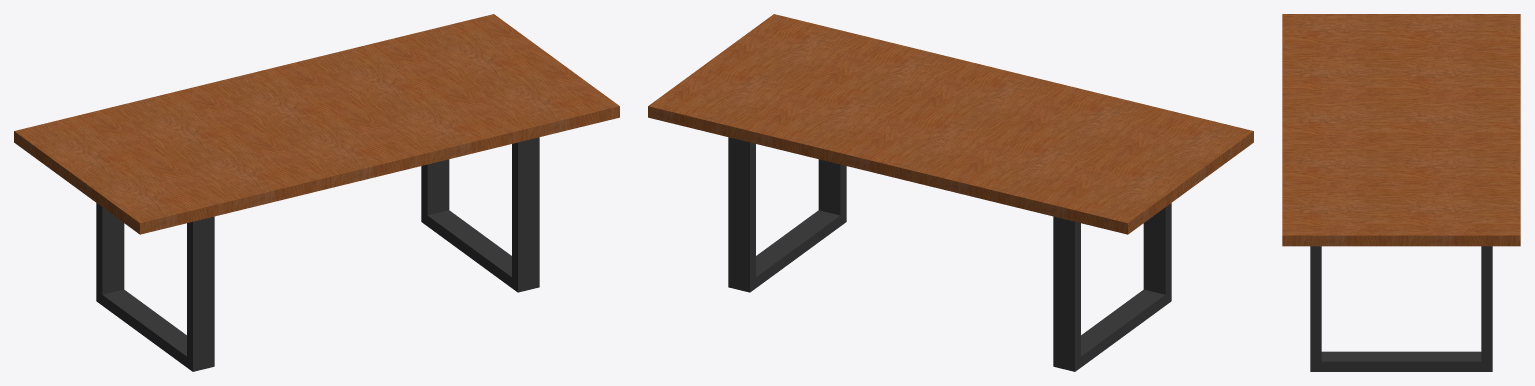
The model's file is mesa1_6.glb.
3 views of the same model, side by side, from view 1: azimuth 30°, elevation 25°; view 2: azimuth 150°, elevation 25°; view 3: azimuth 270°, elevation 25° (orthographic). The views are drawn at different scales.
Visible parts, largest first — view 1: object 1, Composant#1 (×2); view 2: object 1, Composant#1 (×2); view 3: object 1, Composant#1.
Part boxes in pixels (bbox=[...]): object 1: bbox=[14, 14, 619, 234]; Composant#1 (×2): bbox=[96, 137, 539, 371]; object 1: bbox=[648, 14, 1253, 234]; Composant#1 (×2): bbox=[728, 137, 1171, 371]; object 1: bbox=[1282, 14, 1520, 246]; Composant#1: bbox=[1310, 246, 1492, 371].
Bounding box in the file's own units: 2.2 × 0.7708 × 1.
Materials: 2 (1 with a texture image).
